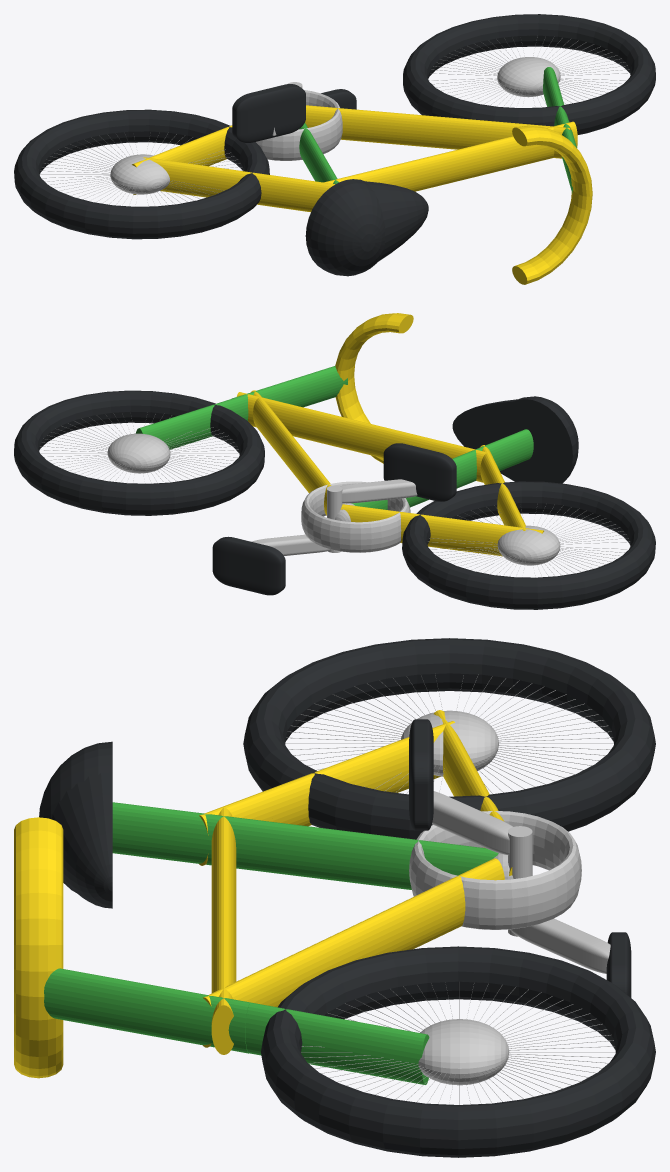
File: Bike.obj
The picture shows the model from 3 angles, top to bottom: view 1: azimuth 30°, elevation 25°; view 2: azimuth 150°, elevation 25°; view 3: azimuth 270°, elevation 25°; orthographic projection. The views are drawn at different scales.
Visible parts, largest first — view 1: group_0_2829873, group_0_16768282, group_0_10988977, group_0_4634441; view 2: group_0_2829873, group_0_16768282, group_0_10988977, group_0_4634441; view 3: group_0_2829873, group_0_16768282, group_0_4634441, group_0_10988977.
Boxes of the visible parts, left/top/right/bottom form: group_0_2829873: left=14, top=14, right=655, bottom=276; group_0_16768282: left=132, top=105, right=592, bottom=284; group_0_10988977: left=40, top=37, right=630, bottom=205; group_0_4634441: left=299, top=67, right=576, bottom=193; group_0_2829873: left=14, top=390, right=655, bottom=609; group_0_16768282: left=236, top=313, right=544, bottom=556; group_0_10988977: left=39, top=413, right=629, bottom=575; group_0_4634441: left=135, top=366, right=533, bottom=509; group_0_2829873: left=39, top=638, right=655, bottom=1157; group_0_16768282: left=14, top=710, right=512, bottom=1078; group_0_4634441: left=44, top=802, right=498, bottom=1084; group_0_10988977: left=285, top=674, right=615, bottom=1104.
Size of the model in its own units: 94.6 by 22.71 by 52.98.
